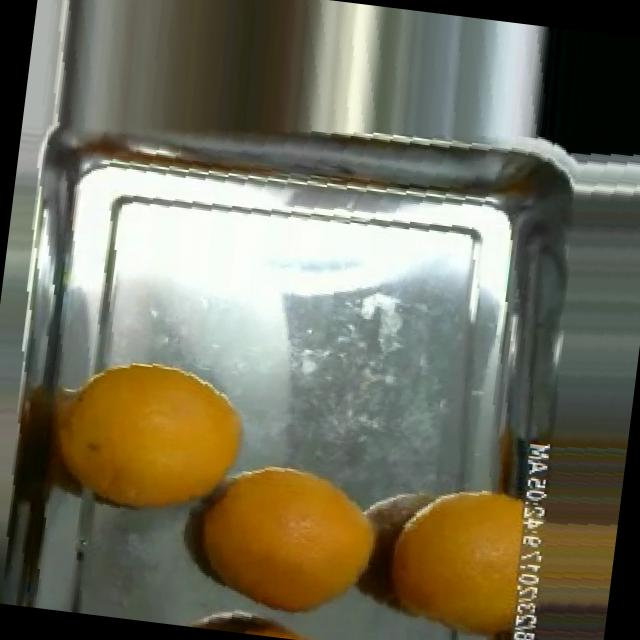Fruit: (41, 339, 272, 543), (160, 442, 394, 637), (346, 473, 541, 640), (520, 24, 640, 172)
